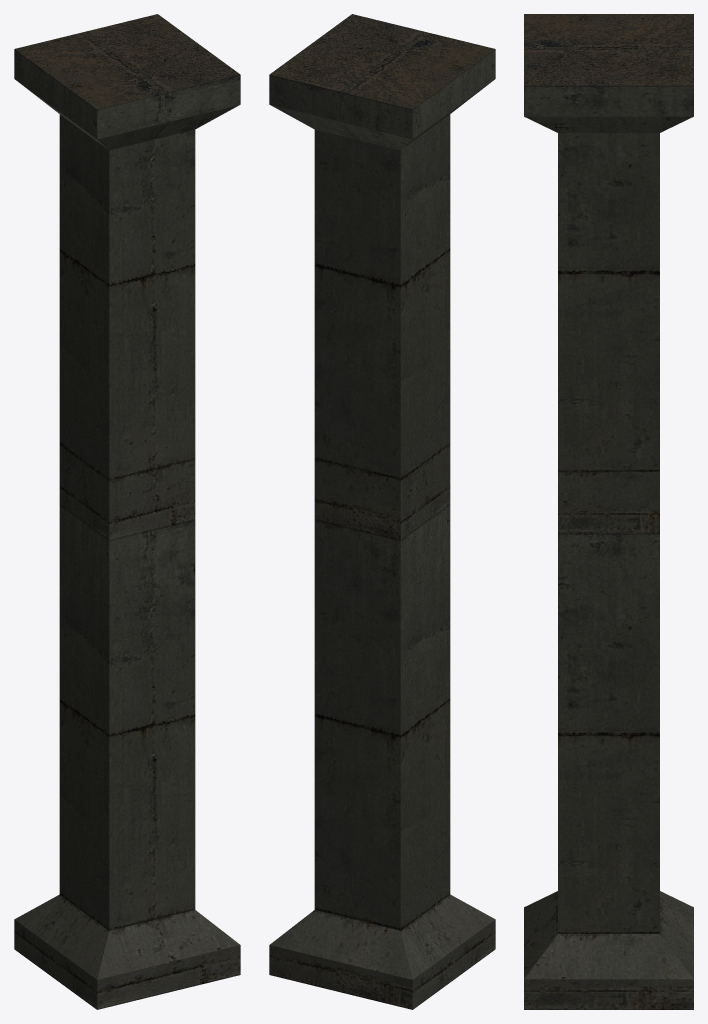
Rendered from pillar_rg_10.glb.
3 renders of one model, left to right at view 1: azimuth 30°, elevation 25°; view 2: azimuth 150°, elevation 25°; view 3: azimuth 270°, elevation 25°, orthographic. The views are drawn at different scales.
Visible parts, largest first — view 1: pillar_rg_10; view 2: pillar_rg_10; view 3: pillar_rg_10.
Boxes of the visible parts, <box> form: pillar_rg_10: <box>14,14,240,1009</box>; pillar_rg_10: <box>269,14,495,1009</box>; pillar_rg_10: <box>524,14,693,1009</box>.
Size of the model in its own units: 1 by 6 by 1.
2 materials, 2 textured.
